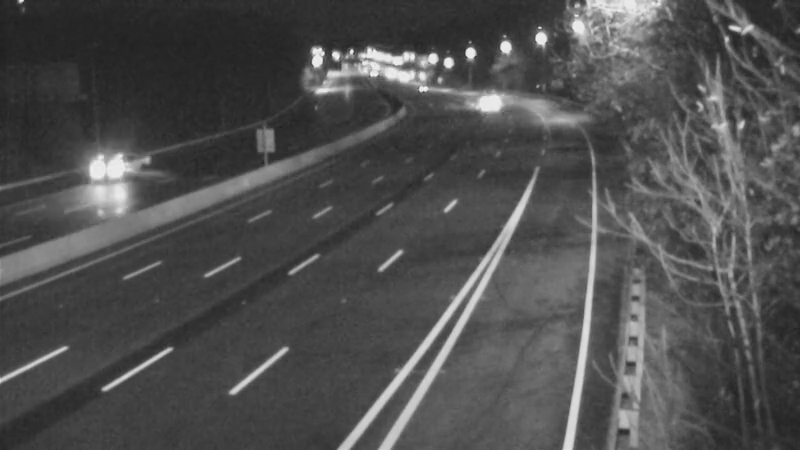vehicle: (65, 130, 145, 210), (400, 63, 450, 113), (461, 79, 511, 129)
